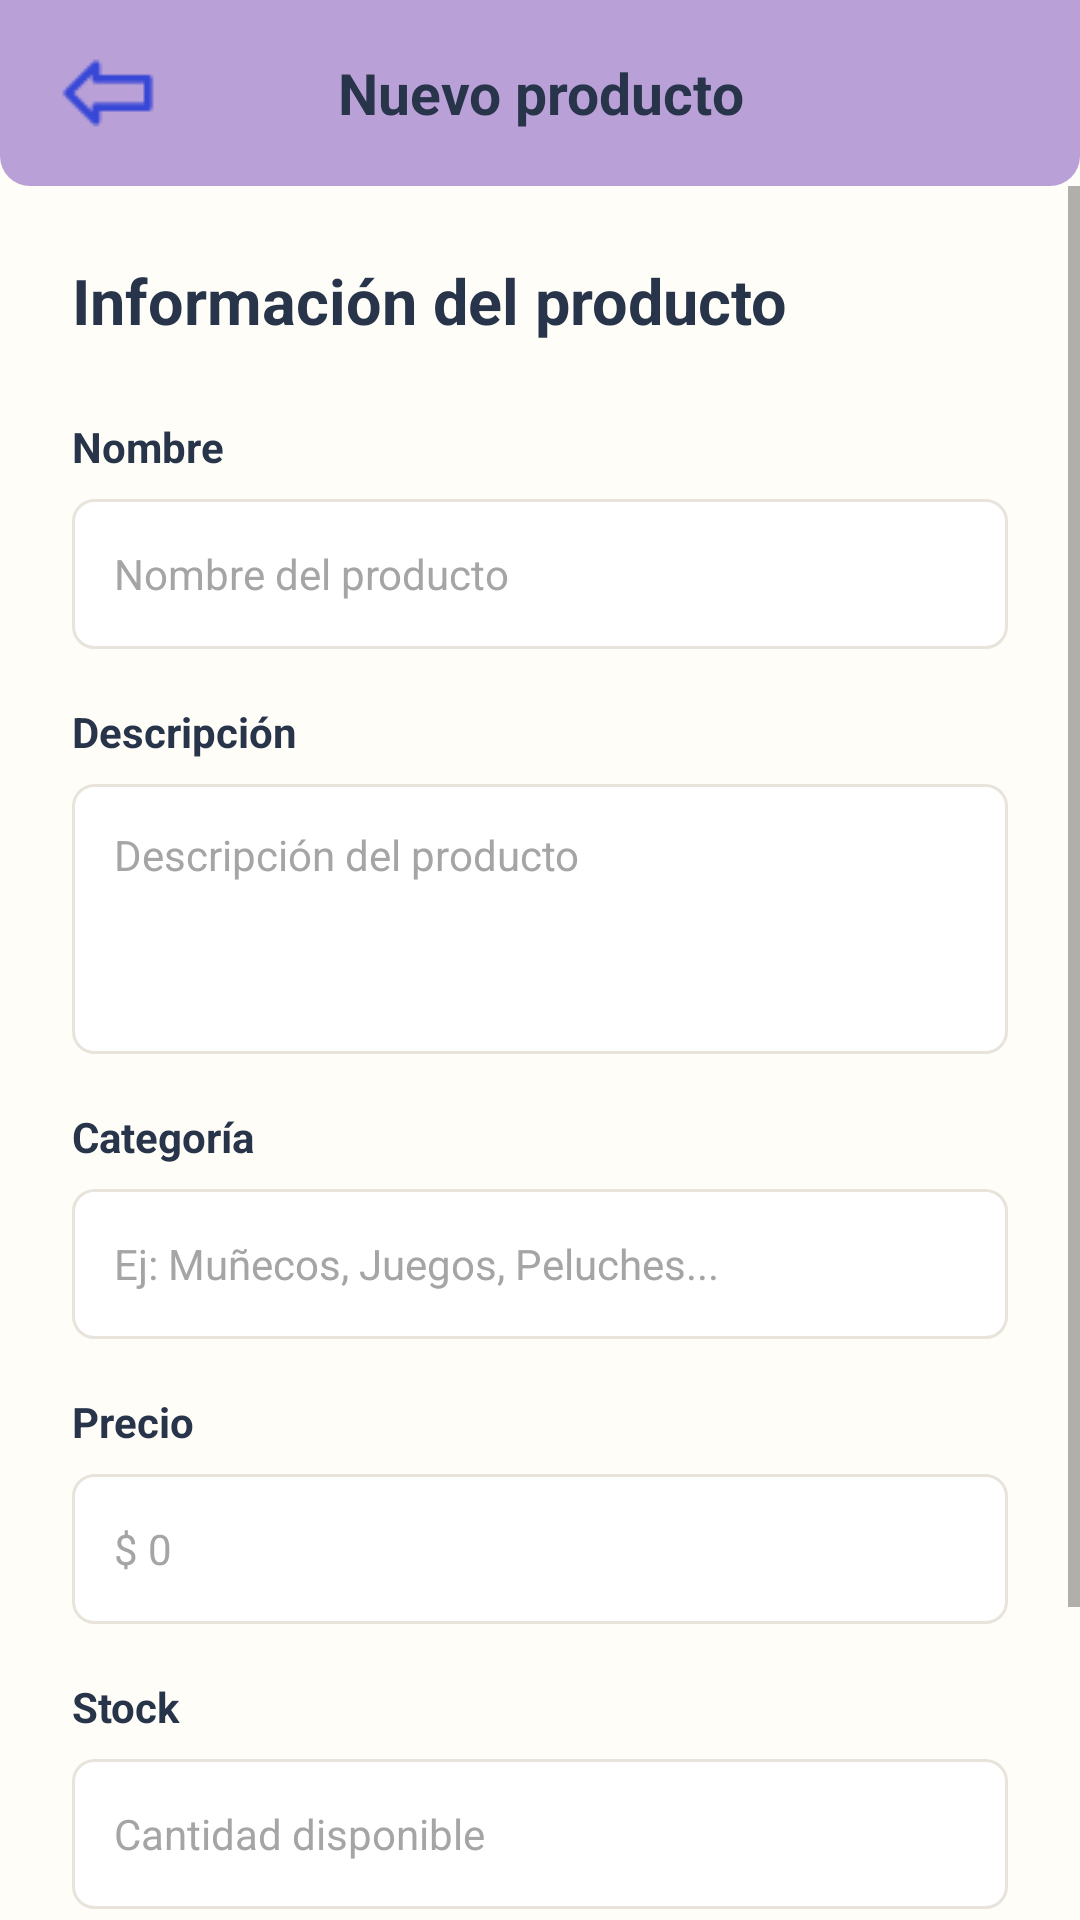

Icons on this 1080w x 1920h Android screen, each with its box as (x1, y1, x2, y2):
Volver: (63, 60, 154, 126)
